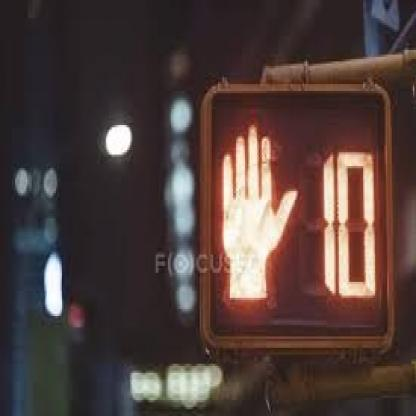Don-t Walk: (205, 84, 306, 348)
